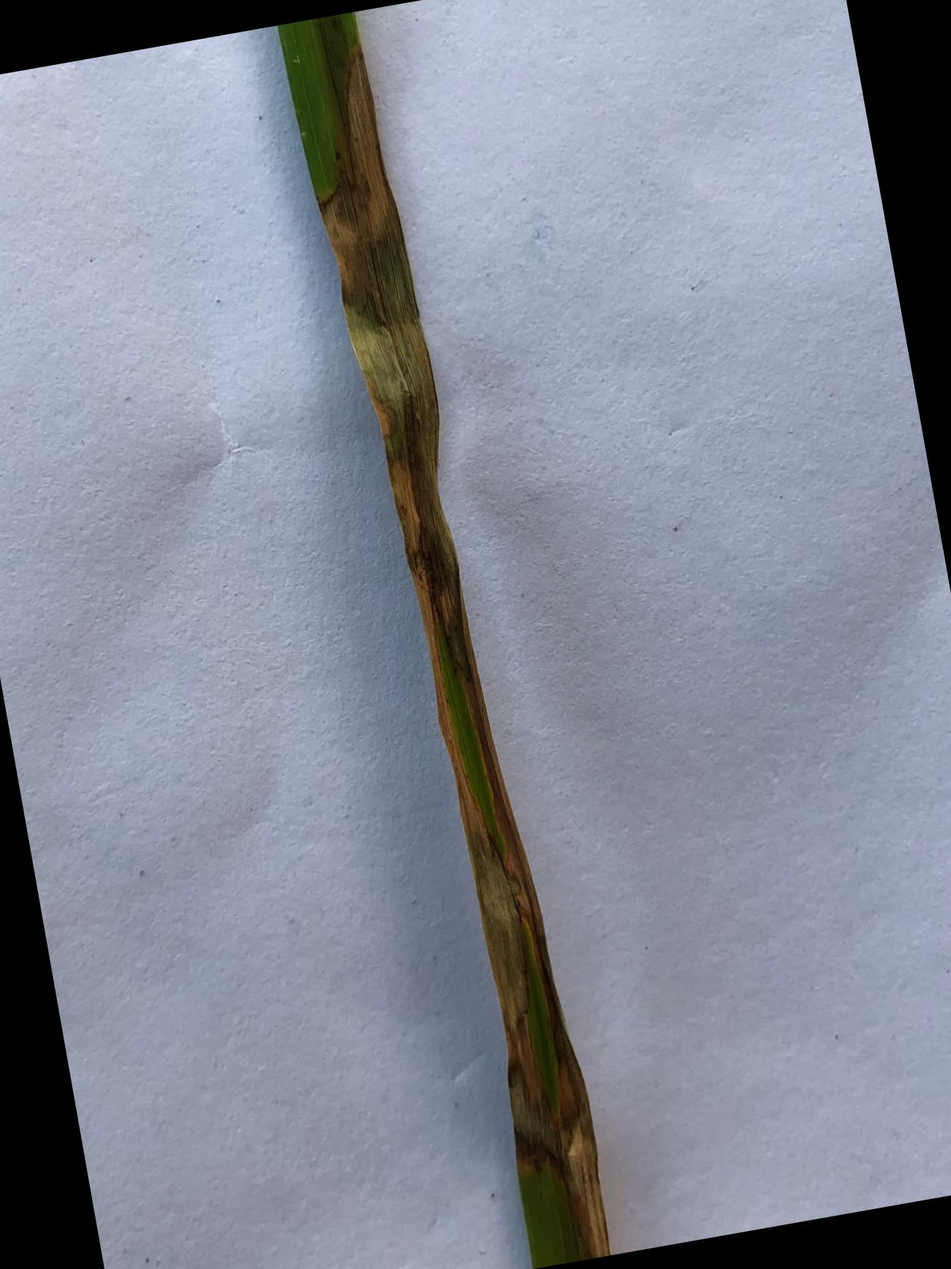Leaf Blight: (320, 43, 611, 1260)
